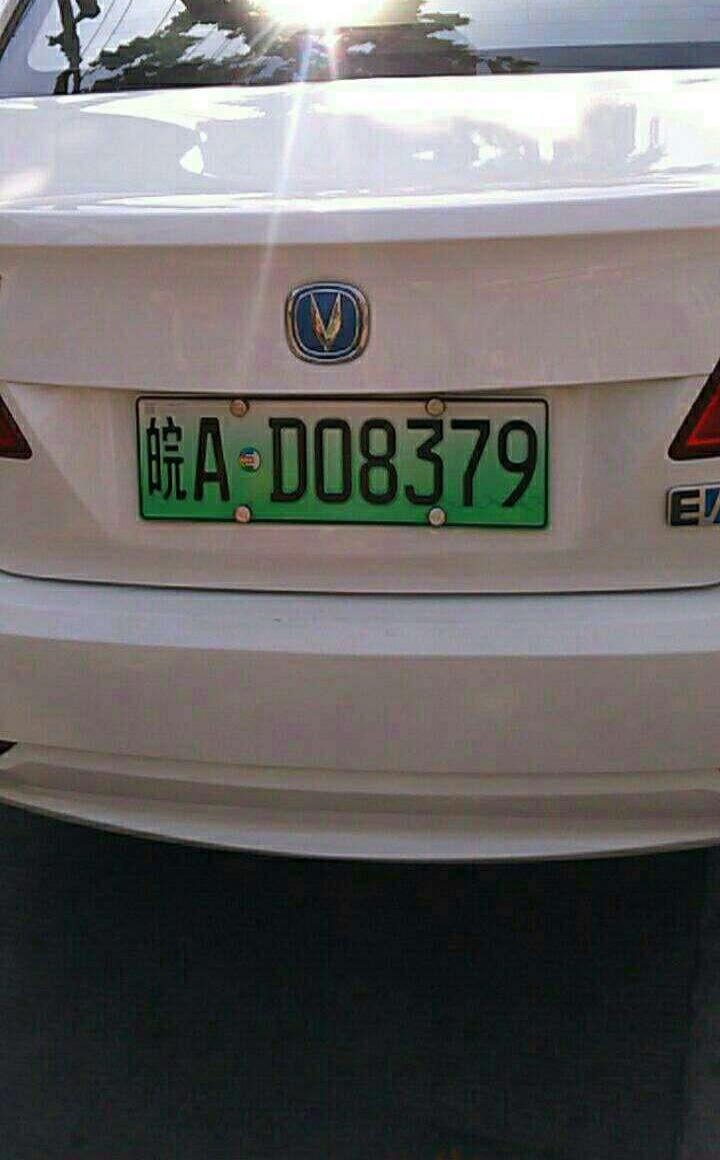car_id: (135, 393, 550, 523)
